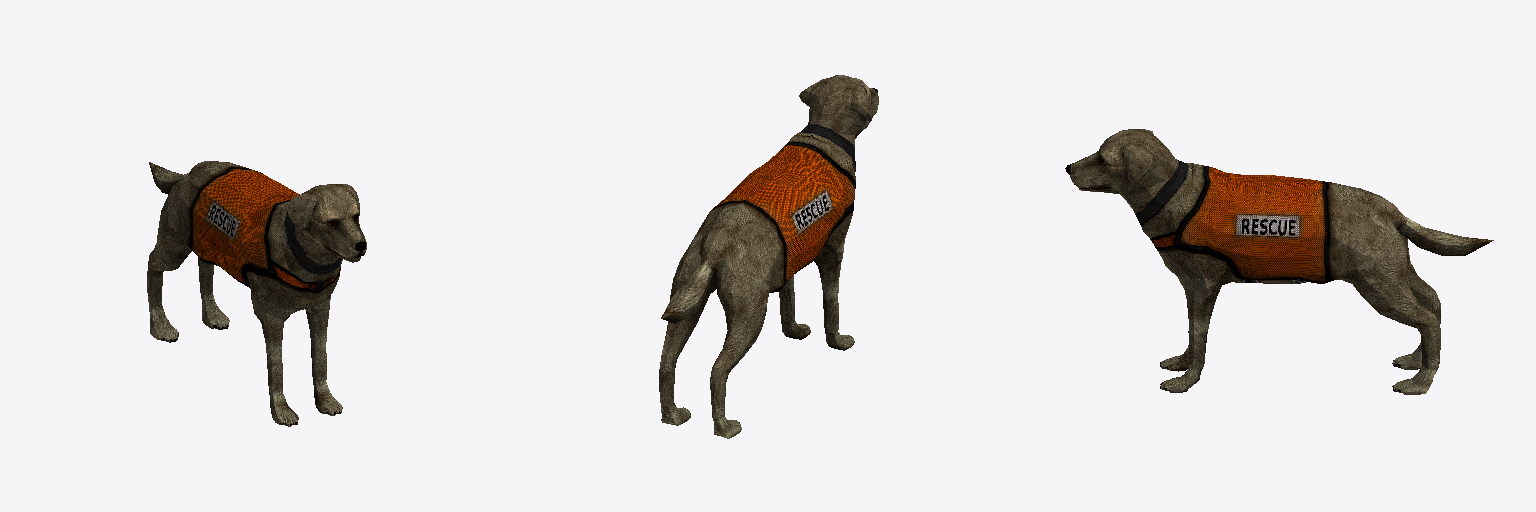
The picture shows the model from 3 angles: view 1: azimuth 30°, elevation 25°; view 2: azimuth 150°, elevation 25°; view 3: azimuth 270°, elevation 25°; orthographic projection.
Visible parts, largest first — view 1: T7_SK_MOB_s4dog; view 2: T7_SK_MOB_s4dog; view 3: T7_SK_MOB_s4dog.
Part boxes in pixels (x1,y1,x2,y2): T7_SK_MOB_s4dog: (147, 161, 366, 426); T7_SK_MOB_s4dog: (659, 75, 878, 438); T7_SK_MOB_s4dog: (1065, 129, 1493, 394).
Size of the model in its own units: 83.47 by 223 by 355.
1 materials, 1 textured.